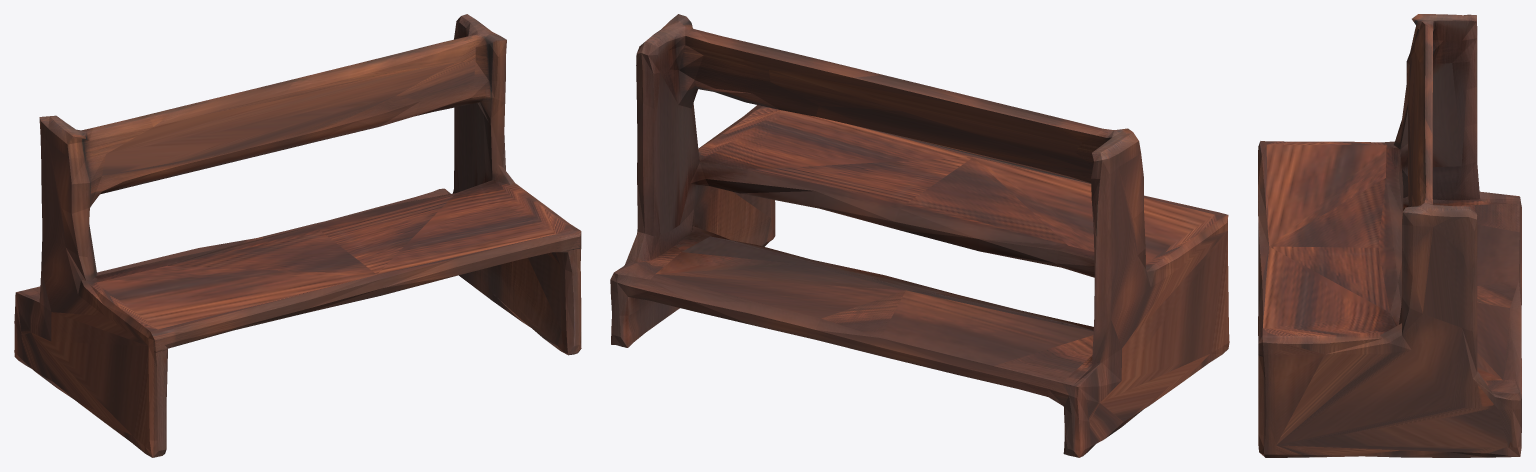
File: pews.fbx
3 views of the same model, side by side, from view 1: azimuth 30°, elevation 25°; view 2: azimuth 150°, elevation 25°; view 3: azimuth 270°, elevation 25° (orthographic). The views are drawn at different scales.
Parts seen in each view (by area): view 1: Mesh_0; view 2: Mesh_0; view 3: Mesh_0.
Boxes of the visible parts, left/top/right/bottom form: Mesh_0: left=14, top=14, right=581, bottom=457; Mesh_0: left=610, top=14, right=1229, bottom=457; Mesh_0: left=1258, top=14, right=1521, bottom=457.
Size of the model in its own units: 2.42 by 1.4 by 1.35.
1 material, 1 textured.
